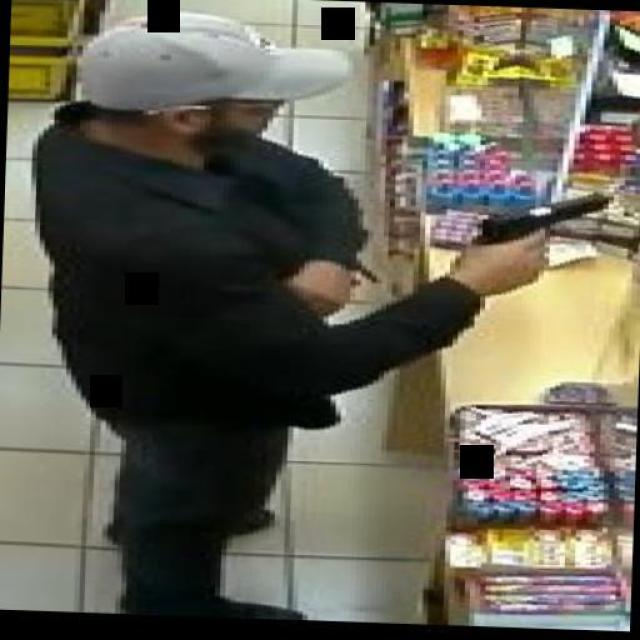gun: (465, 184, 614, 286)
